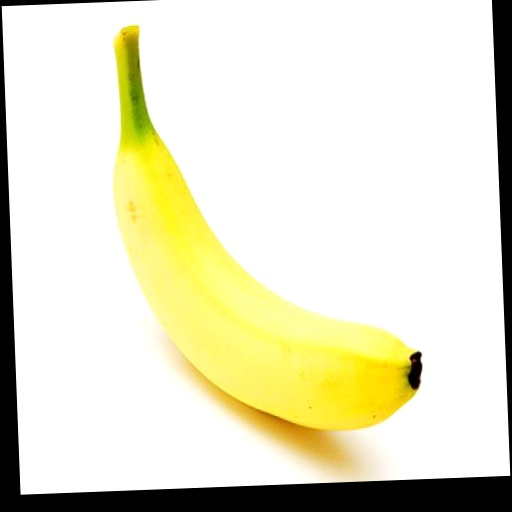fruit: (113, 27, 421, 429)
